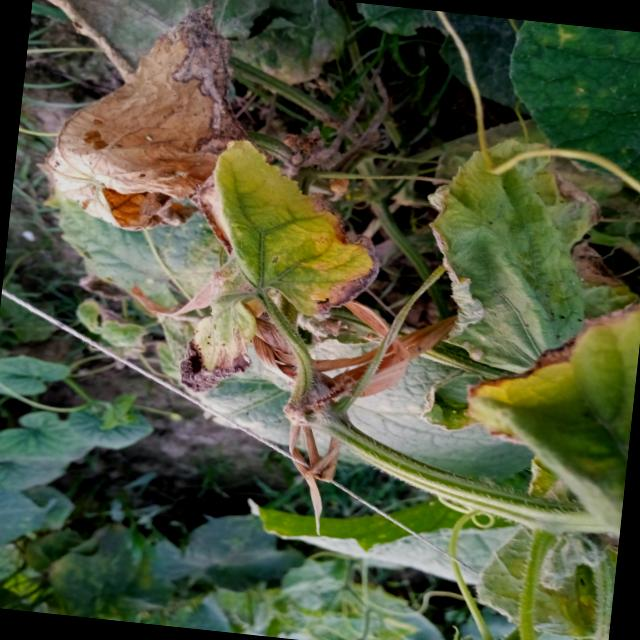cucumber_bacterial: (403, 131, 640, 400), (43, 0, 229, 240), (212, 124, 394, 328), (154, 296, 336, 454), (463, 473, 624, 626)
